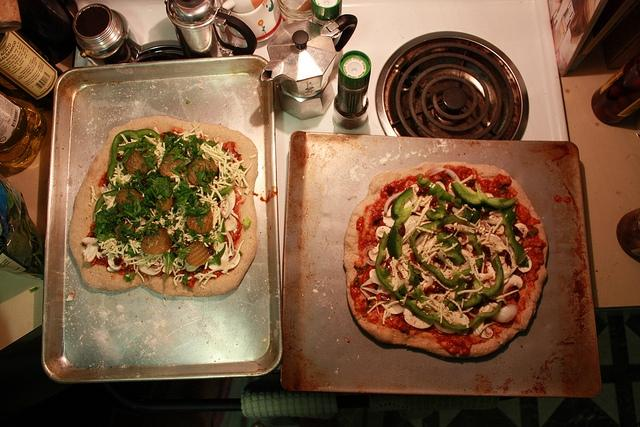bell pepper: (376, 232, 502, 330), (107, 129, 163, 190), (451, 181, 518, 211), (501, 208, 529, 268), (417, 174, 462, 208), (473, 254, 504, 297), (436, 231, 466, 264), (390, 187, 414, 228), (420, 215, 475, 232), (426, 206, 452, 221), (454, 280, 470, 300)
